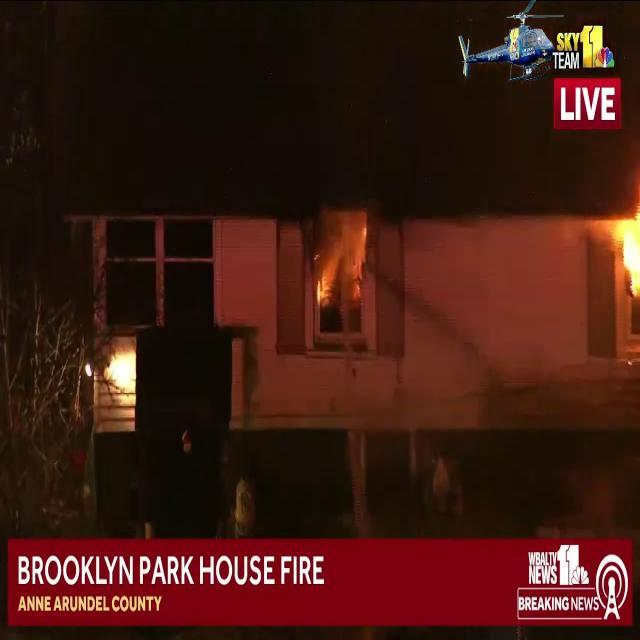Fire: (598, 168, 640, 294)
